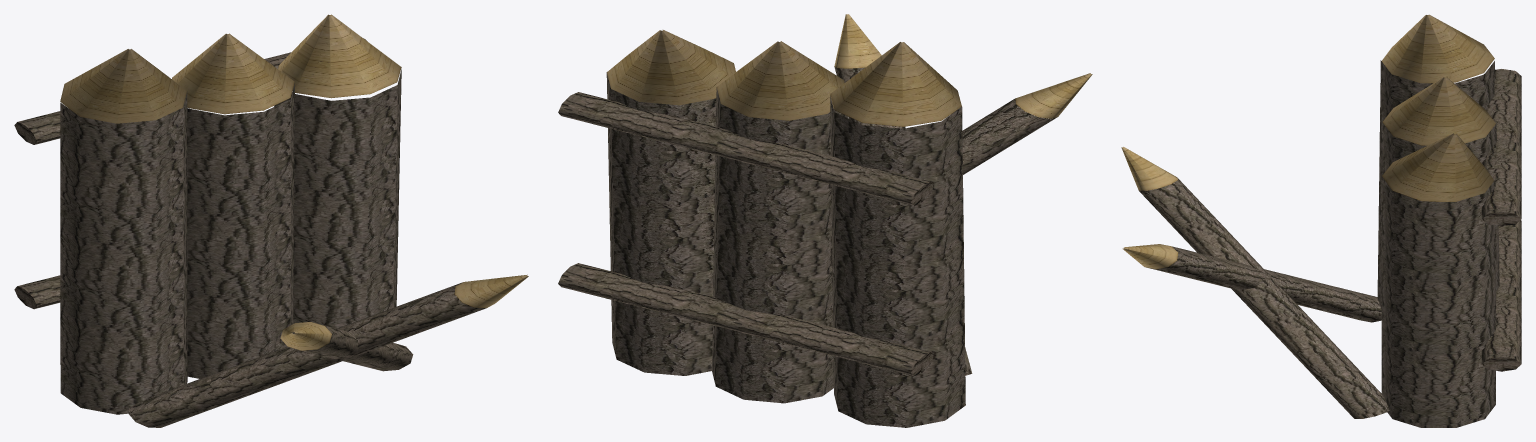
The model's file is palisade_spikes.glb.
3 renders of one model, left to right at view 1: azimuth 30°, elevation 25°; view 2: azimuth 150°, elevation 25°; view 3: azimuth 270°, elevation 25°, orthographic. The views are drawn at different scales.
Parts seen in each view (by area): view 1: prop; view 2: prop; view 3: prop.
Boxes of the visible parts, left/top/right/bottom form: prop: left=14, top=14, right=528, bottom=427; prop: left=558, top=14, right=1092, bottom=427; prop: left=1121, top=14, right=1521, bottom=427.
Bounding box in the file's own units: 1.04 × 1.01 × 1.2.
2 materials, 2 textured.
